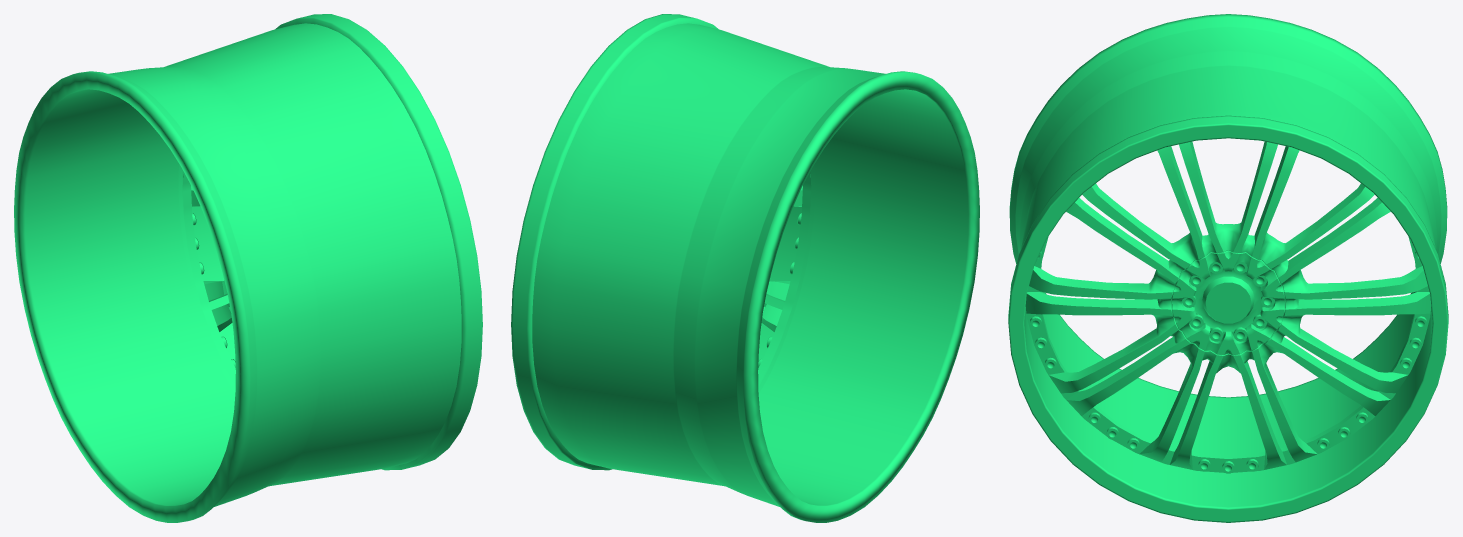
Rendered from tis07.fbx.
The picture shows the model from 3 angles, left to right: view 1: azimuth 30°, elevation 25°; view 2: azimuth 150°, elevation 25°; view 3: azimuth 270°, elevation 25°; orthographic projection. The views are drawn at different scales.
Visible parts, largest first — view 1: tis07; view 2: tis07; view 3: tis07.
Boxes of the visible parts, box(x1,y1,x2,y2) form: tis07: box(14, 14, 482, 522); tis07: box(511, 14, 979, 522); tis07: box(1008, 14, 1448, 522).
Size of the model in its own units: 1452 by 2449 by 2449.
